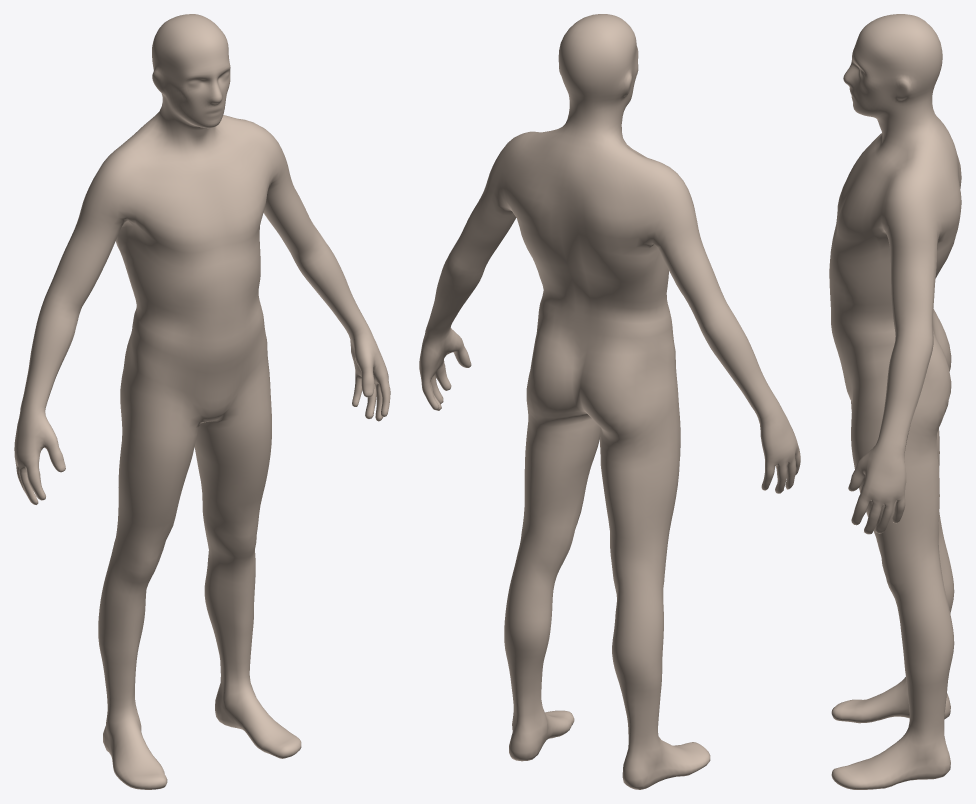
The model's file is person.gltf.
3 views of the same model, side by side, from view 1: azimuth 30°, elevation 25°; view 2: azimuth 150°, elevation 25°; view 3: azimuth 270°, elevation 25° (orthographic).
Visible parts, largest first — view 1: humanBody; view 2: humanBody; view 3: humanBody.
Boxes of the visible parts, x1,y1,x2,y2 form: humanBody: (14, 14, 390, 789); humanBody: (419, 14, 800, 789); humanBody: (829, 14, 961, 789).
Bounding box in the file's own units: 0.9548 × 1.83 × 0.2988.
